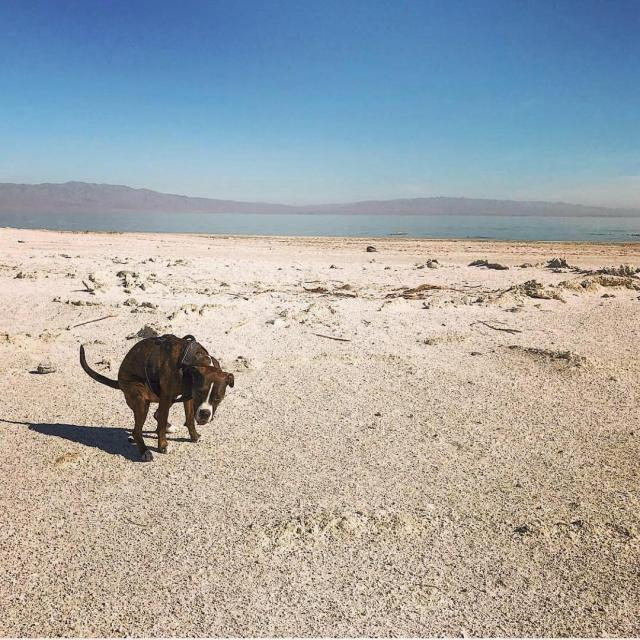squatting: (76, 330, 237, 466)
